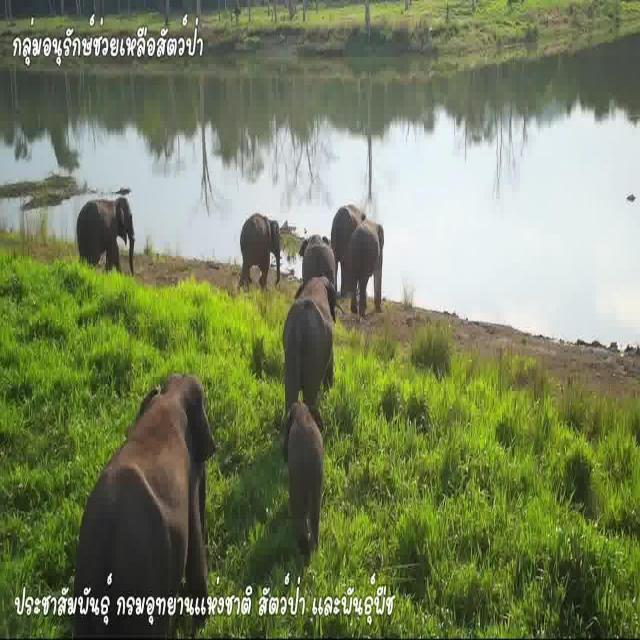Elephant: (94, 368, 204, 574), (284, 282, 336, 386), (284, 401, 326, 513), (71, 183, 136, 253), (348, 217, 392, 308), (237, 207, 280, 281), (331, 196, 358, 272), (302, 224, 334, 286)
